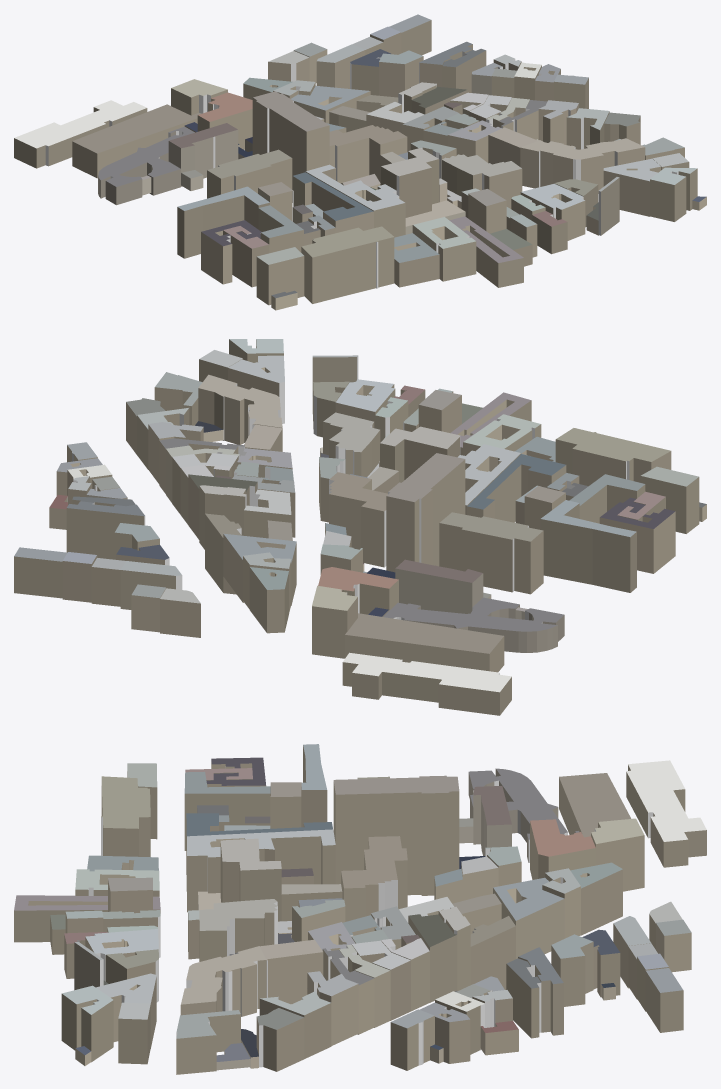
The picture shows the model from 3 angles, top to bottom: view 1: azimuth 30°, elevation 25°; view 2: azimuth 150°, elevation 25°; view 3: azimuth 270°, elevation 25°; orthographic projection. The views are drawn at different scales.
Parts seen in each view (by area): view 1: tuile; view 2: tuile; view 3: tuile.
Boxes of the visible parts, x1=… form: tuile: x1=14, y1=14, x2=706, y2=310; tuile: x1=14, y1=339, x2=706, y2=715; tuile: x1=14, y1=744, x2=706, y2=1074.
Size of the model in its own units: 291 by 55.34 by 286.
